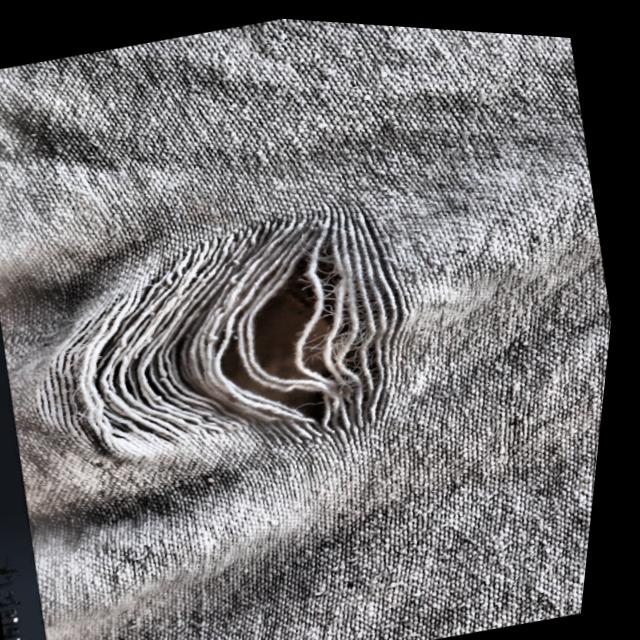Hole: (0, 138, 472, 532)
